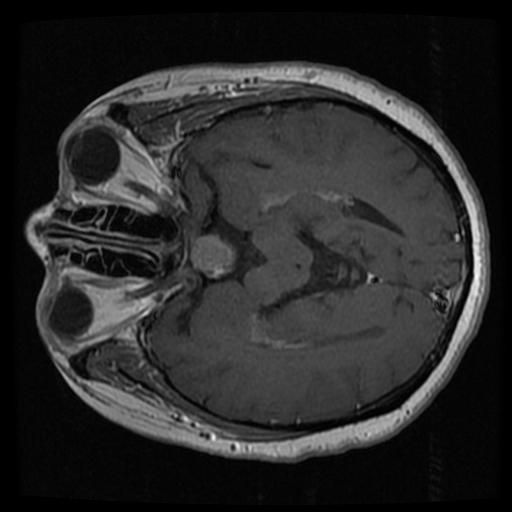pituitary tumour: (189, 233, 233, 278)
